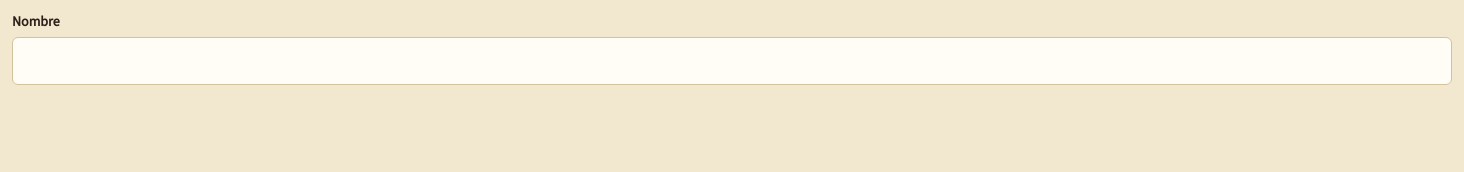
Test case: useTocados › solo enseña el error tras alSalir
The width and height of the screenshot is (1464, 172).
Expected: the text "Escribe un nombre" is not shown
Click the field labelled "Nombre" at [732, 61], box [12, 37, 1452, 85]
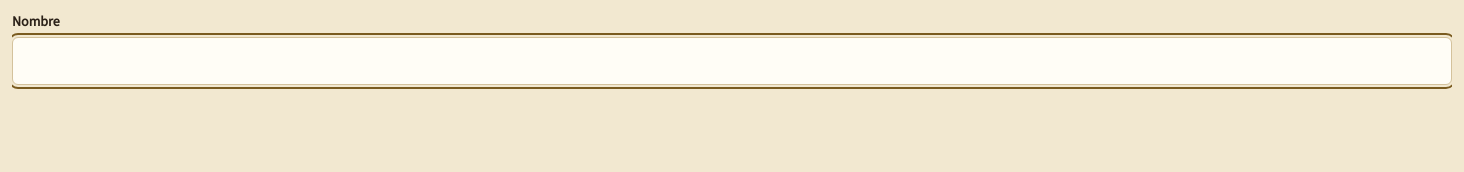
Press Tab
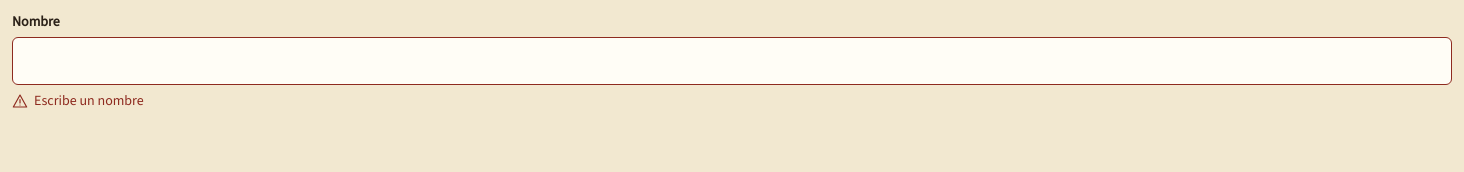
Expected: the text "Escribe un nombre" is shown, [34, 91, 144, 110]
